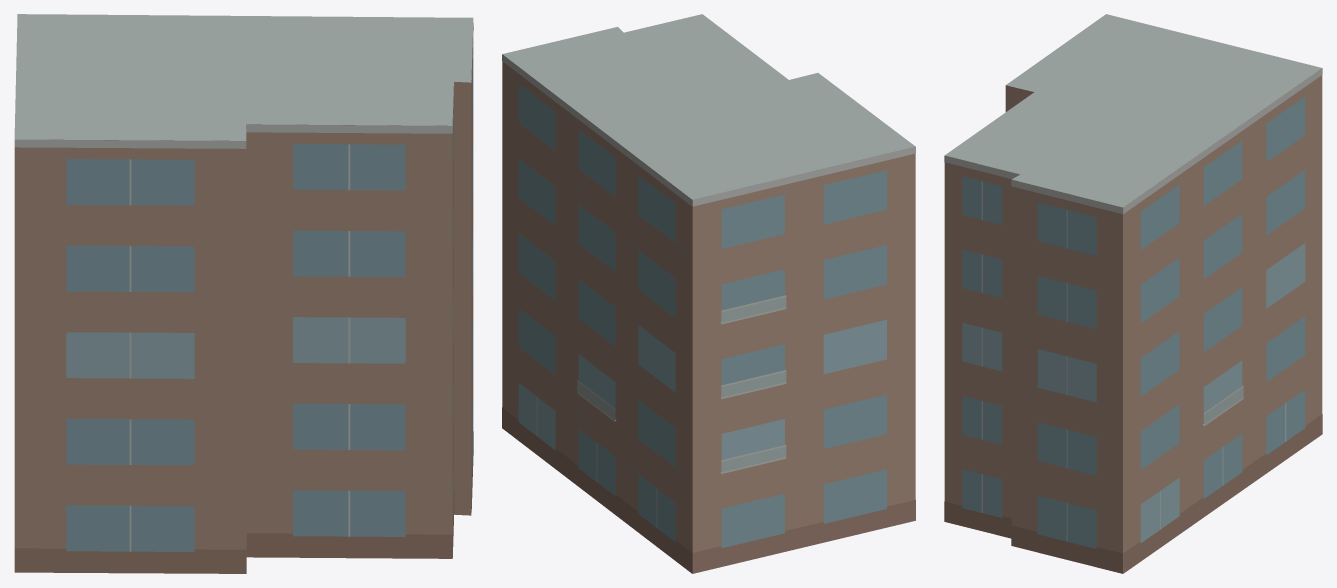
Rendered from survey-upis-32718364.glb.
3 renders of one model, left to right at view 1: azimuth 30°, elevation 25°; view 2: azimuth 150°, elevation 25°; view 3: azimuth 270°, elevation 25°, orthographic. The views are drawn at different scales.
Visible parts, largest first — view 1: survey-upis-32718364.tmp; view 2: survey-upis-32718364.tmp; view 3: survey-upis-32718364.tmp.
Boxes of the visible parts, left/top/right/bottom form: survey-upis-32718364.tmp: left=14, top=14, right=473, bottom=573; survey-upis-32718364.tmp: left=502, top=14, right=915, bottom=573; survey-upis-32718364.tmp: left=944, top=14, right=1322, bottom=573.
Bounding box in the file's own units: 15.03 × 13.25 × 12.4.
